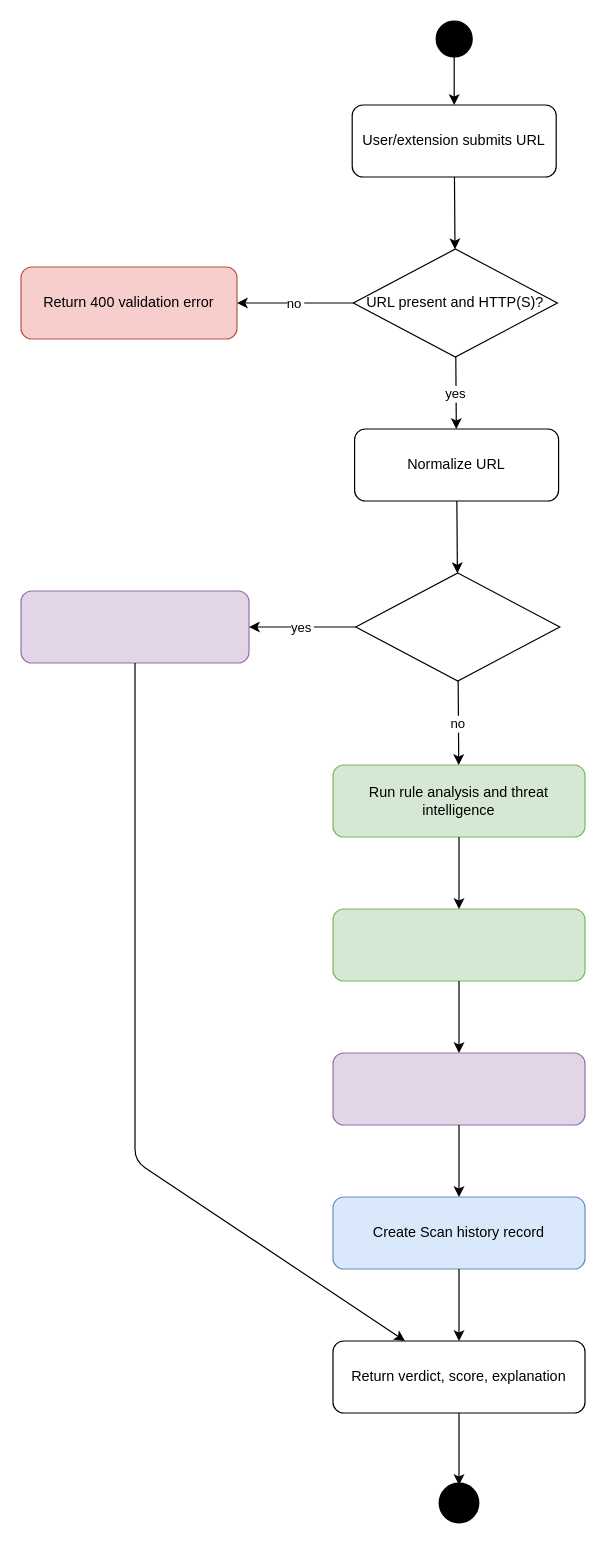
The diagram is 606 pixels wide and 1544 high, and some of its shapes have lost their labels. The shapes that lost their labels are listed below. From the top down, each one's centre as x and y in pixels, then its label:
At (134,626): "Create Scan from cached result".
At (457,626): "Cache hit?".
At (458,944): "Calculate final risk score and verdict".
At (458,1088): "Save result and explanation to ScanCache".
